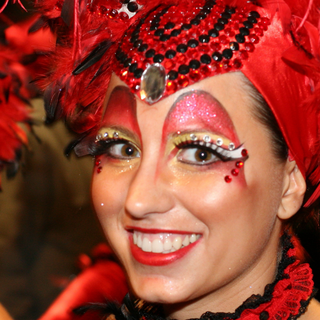eye: (177, 140, 224, 167), (96, 135, 139, 163)
